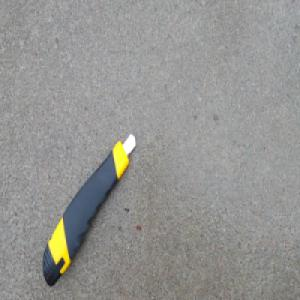Cutter: (41, 131, 137, 283)
